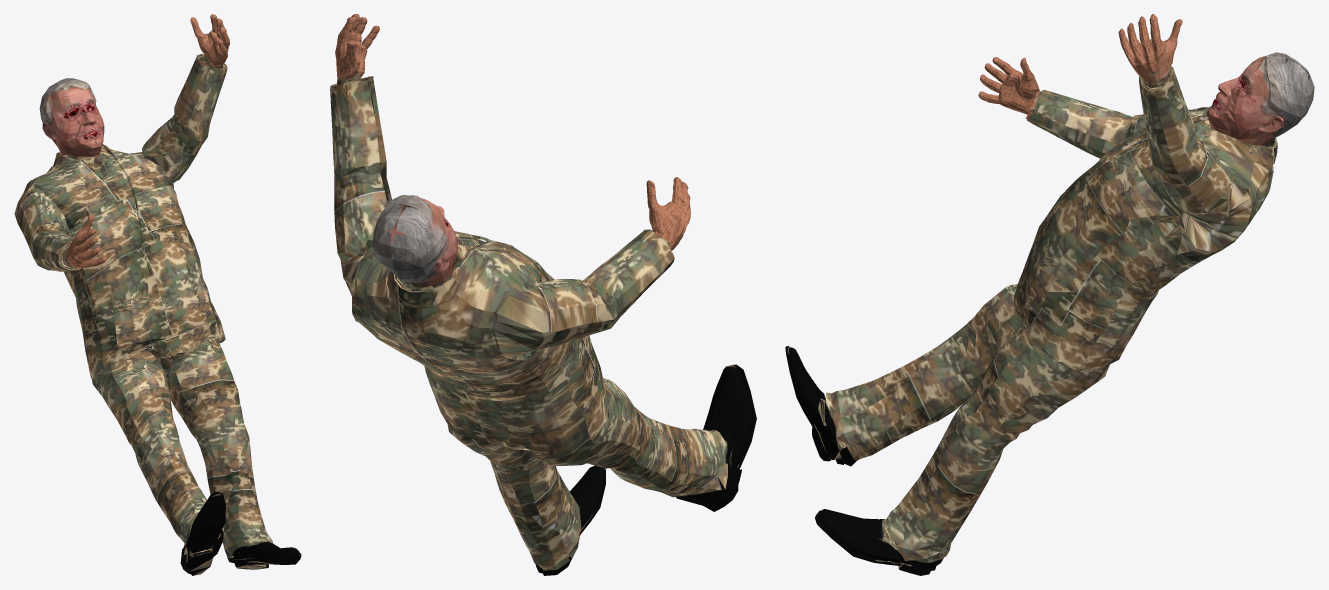
File: zombie_000065.obj
The picture shows the model from 3 angles, left to right: view 1: azimuth 30°, elevation 25°; view 2: azimuth 150°, elevation 25°; view 3: azimuth 270°, elevation 25°; orthographic projection. The views are drawn at different scales.
Parts seen in each view (by area): view 1: Suit_coat_orig_9___De, objGeo_Hea_orig_9___D; view 2: Suit_coat_orig_9___De, objGeo_Hea_orig_9___D; view 3: Suit_coat_orig_9___De, objGeo_Hea_orig_9___D.
Boxes of the visible parts, x1,y1,x2,y2 form: Suit_coat_orig_9___De: (14, 14, 301, 575); objGeo_Hea_orig_9___D: (39, 78, 104, 162); Suit_coat_orig_9___De: (330, 14, 756, 575); objGeo_Hea_orig_9___D: (373, 195, 457, 287); Suit_coat_orig_9___De: (785, 14, 1277, 575); objGeo_Hea_orig_9___D: (1206, 52, 1314, 145).
Size of the model in its own units: 0.8671 by 1.84 by 1.49.
